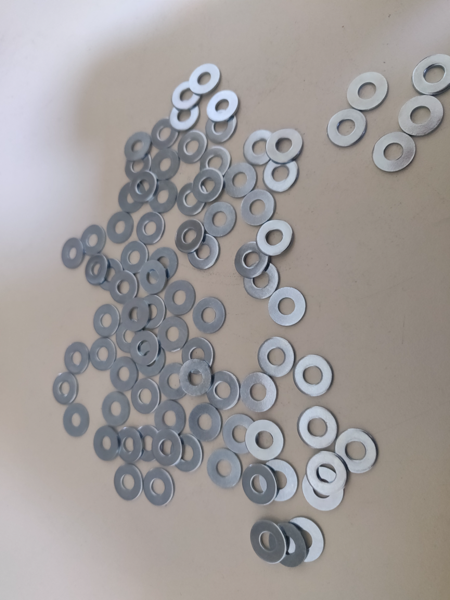circle: (334, 428, 379, 476), (302, 465, 346, 511), (398, 94, 444, 138), (306, 450, 349, 496), (344, 70, 390, 113), (297, 405, 340, 450), (371, 131, 417, 173), (285, 516, 325, 564), (258, 459, 300, 502), (266, 285, 308, 328), (294, 354, 335, 398), (268, 521, 307, 567), (411, 52, 450, 97), (245, 419, 286, 461), (325, 109, 369, 148), (258, 336, 298, 378), (251, 519, 288, 564), (243, 259, 282, 301), (242, 463, 279, 506), (240, 372, 279, 412), (256, 218, 295, 258), (205, 369, 242, 411), (222, 414, 259, 456), (206, 448, 243, 489), (188, 403, 225, 443), (197, 144, 234, 184), (221, 161, 258, 200), (234, 240, 271, 278), (240, 188, 277, 226), (264, 157, 302, 193), (162, 278, 198, 316), (266, 127, 305, 162), (175, 178, 209, 218), (131, 424, 165, 464), (243, 128, 279, 165), (171, 434, 205, 473), (142, 467, 175, 507), (205, 88, 241, 124), (203, 109, 239, 145), (186, 234, 221, 271), (192, 297, 227, 334), (181, 337, 216, 374), (204, 200, 238, 238), (179, 359, 213, 397), (156, 316, 190, 353), (158, 363, 191, 401), (135, 339, 168, 377), (153, 400, 187, 436), (177, 128, 210, 165), (152, 430, 185, 467), (119, 296, 152, 333), (149, 146, 182, 183), (114, 319, 147, 356), (130, 377, 162, 415), (146, 178, 179, 214), (192, 167, 224, 204), (109, 356, 141, 393), (118, 240, 150, 277), (174, 218, 205, 255), (118, 178, 149, 215), (113, 464, 143, 502), (188, 63, 222, 96), (169, 97, 202, 131), (129, 331, 161, 366), (136, 294, 168, 329), (92, 302, 122, 339), (104, 211, 136, 245), (150, 116, 181, 151), (61, 402, 90, 439), (115, 426, 143, 464), (171, 78, 202, 112), (135, 211, 166, 245), (101, 392, 131, 427), (109, 269, 139, 304), (124, 148, 154, 183), (92, 426, 121, 462), (51, 371, 81, 405), (88, 337, 118, 371), (149, 246, 179, 280), (139, 259, 169, 293), (124, 129, 153, 164), (83, 251, 110, 288), (129, 170, 159, 203), (79, 223, 108, 257), (59, 236, 87, 271), (63, 342, 91, 373)
